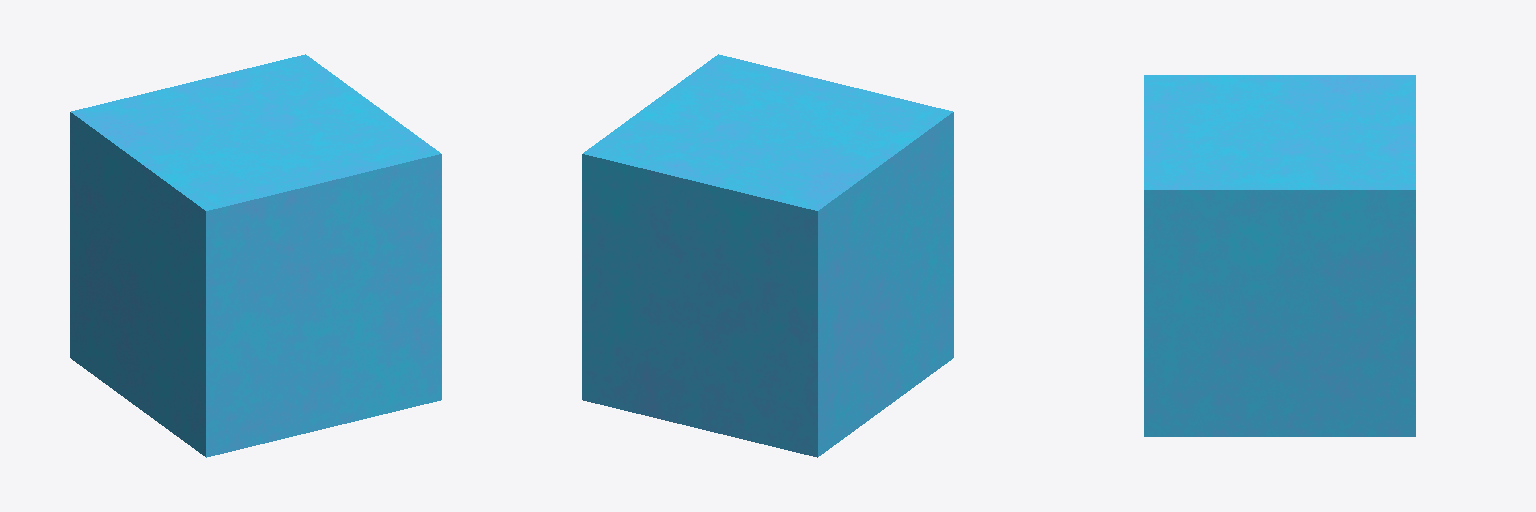
3 renders of one model, left to right at view 1: azimuth 30°, elevation 25°; view 2: azimuth 150°, elevation 25°; view 3: azimuth 270°, elevation 25°, orthographic.
Visible parts, largest first — view 1: Cube; view 2: Cube; view 3: Cube.
Boxes of the visible parts, x1,y1,x2,y2 form: Cube: [70, 54, 441, 457]; Cube: [582, 54, 953, 457]; Cube: [1144, 75, 1415, 436].
Size of the model in its own units: 1 by 1 by 1.
1 materials, 1 textured.